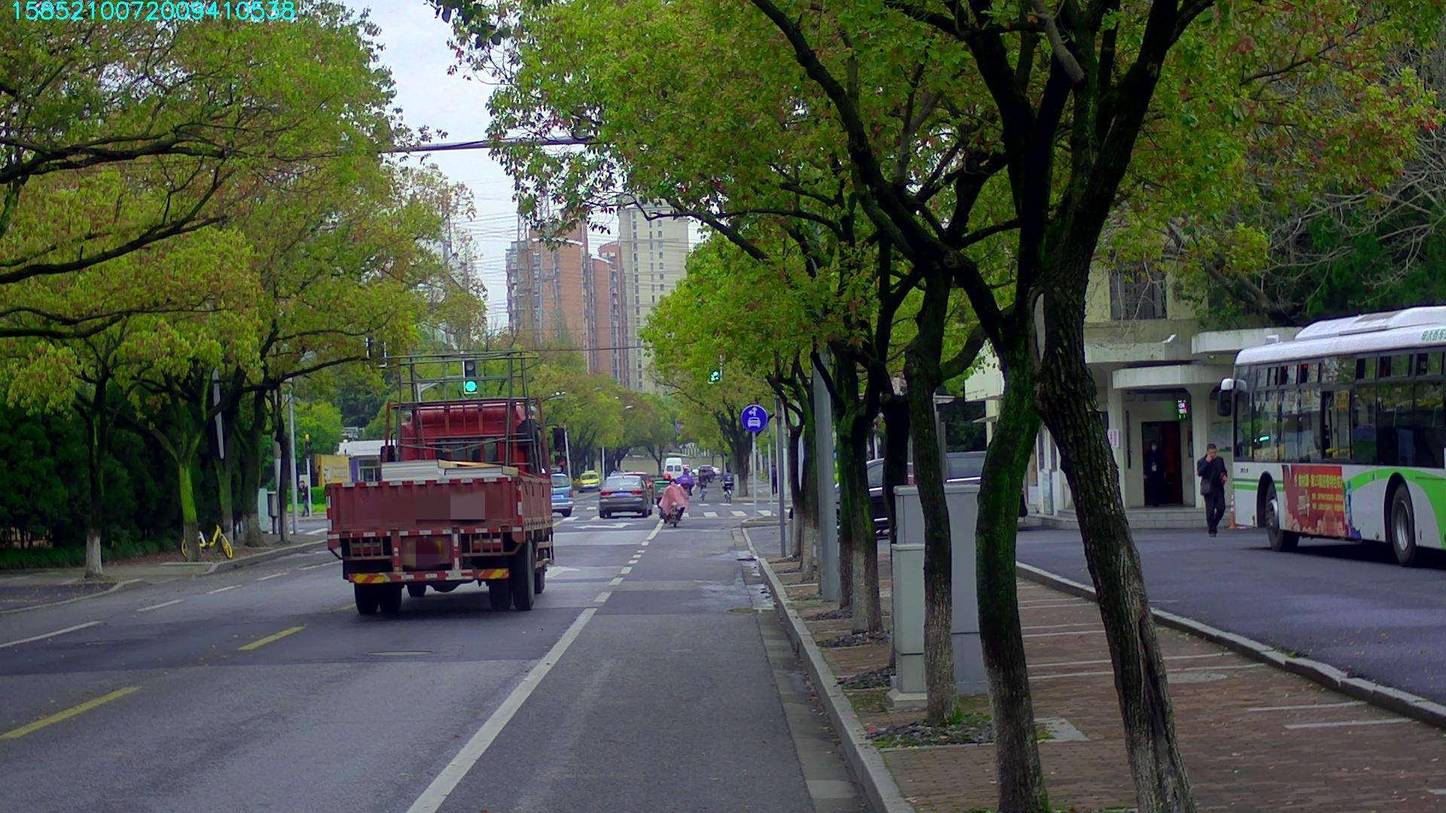green: (462, 359, 477, 392), (707, 361, 721, 382)
